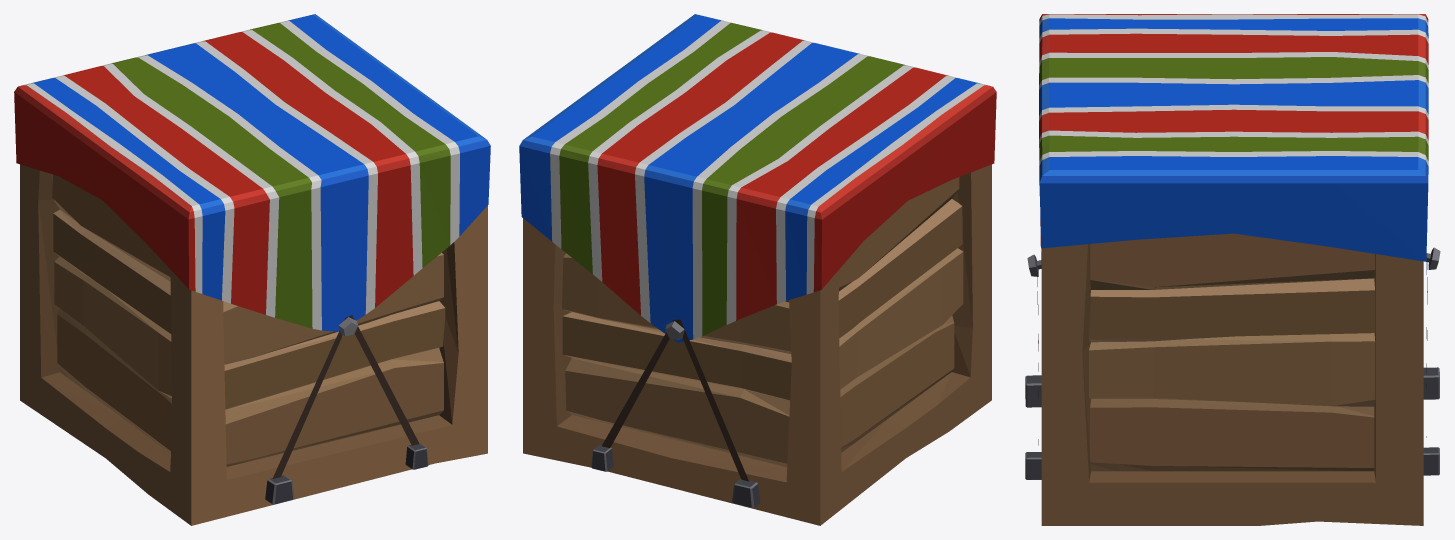
Rendered from crate.glb.
3 renders of one model, left to right at view 1: azimuth 30°, elevation 25°; view 2: azimuth 150°, elevation 25°; view 3: azimuth 270°, elevation 25°, orthographic. The views are drawn at different scales.
Parts seen in each view (by area): view 1: crate; view 2: crate; view 3: crate.
Part boxes in pixels (x1=…): crate: x1=14, y1=14, x2=490, y2=525; crate: x1=519, y1=14, x2=996, y2=525; crate: x1=1025, y1=14, x2=1440, y2=525.
Size of the model in its own units: 0.5093 by 0.5093 by 0.5433.
